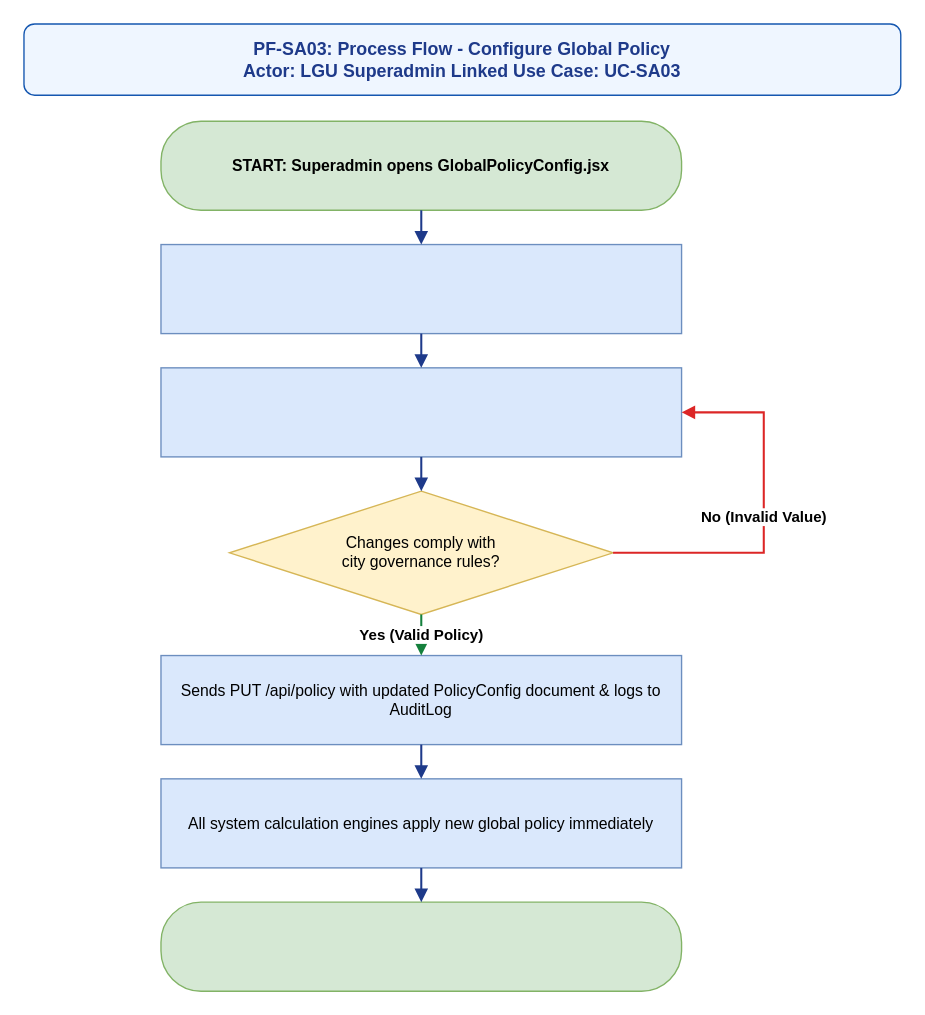
Some shapes in this 925 by 1015 pixel diagram are drawn without their labels. The centre of each missing label's shape, as x and y in pixels:
END: Global disaster governance policy updated system-wide: pixel 421 946
Page calls GET /api/policy to retrieve current global thresholds and formulas: pixel 421 288
Updates policy parameters (e.g. CFW Daily Wage Rate, QR Expiry Window): pixel 421 411
